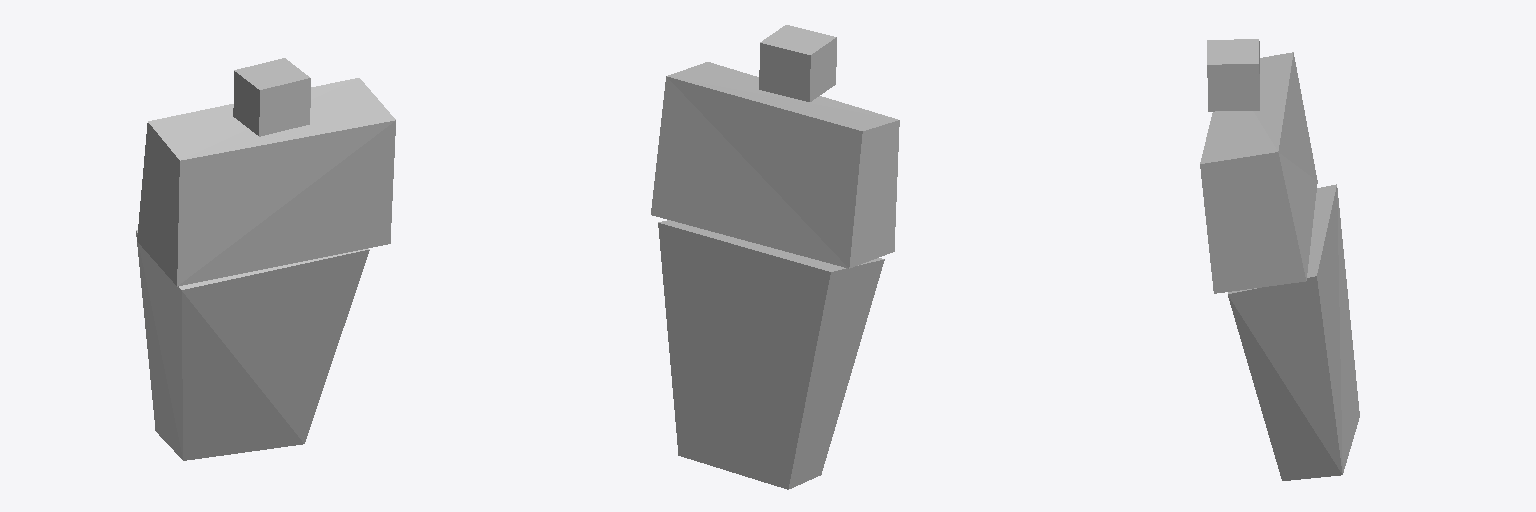
Rendered from torso.obj.
3 renders of one model, left to right at view 1: azimuth 30°, elevation 25°; view 2: azimuth 150°, elevation 25°; view 3: azimuth 270°, elevation 25°, orthographic.
Parts seen in each view (by area): view 1: Cube.002_Cube.003; view 2: Cube.002_Cube.003; view 3: Cube.002_Cube.003.
Boxes of the visible parts, box(x1,y1,x2,y2) form: Cube.002_Cube.003: box(136, 58, 395, 460); Cube.002_Cube.003: box(651, 25, 899, 489); Cube.002_Cube.003: box(1200, 39, 1359, 480).
Bounding box in the file's own units: 3.89 × 7.19 × 2.59.